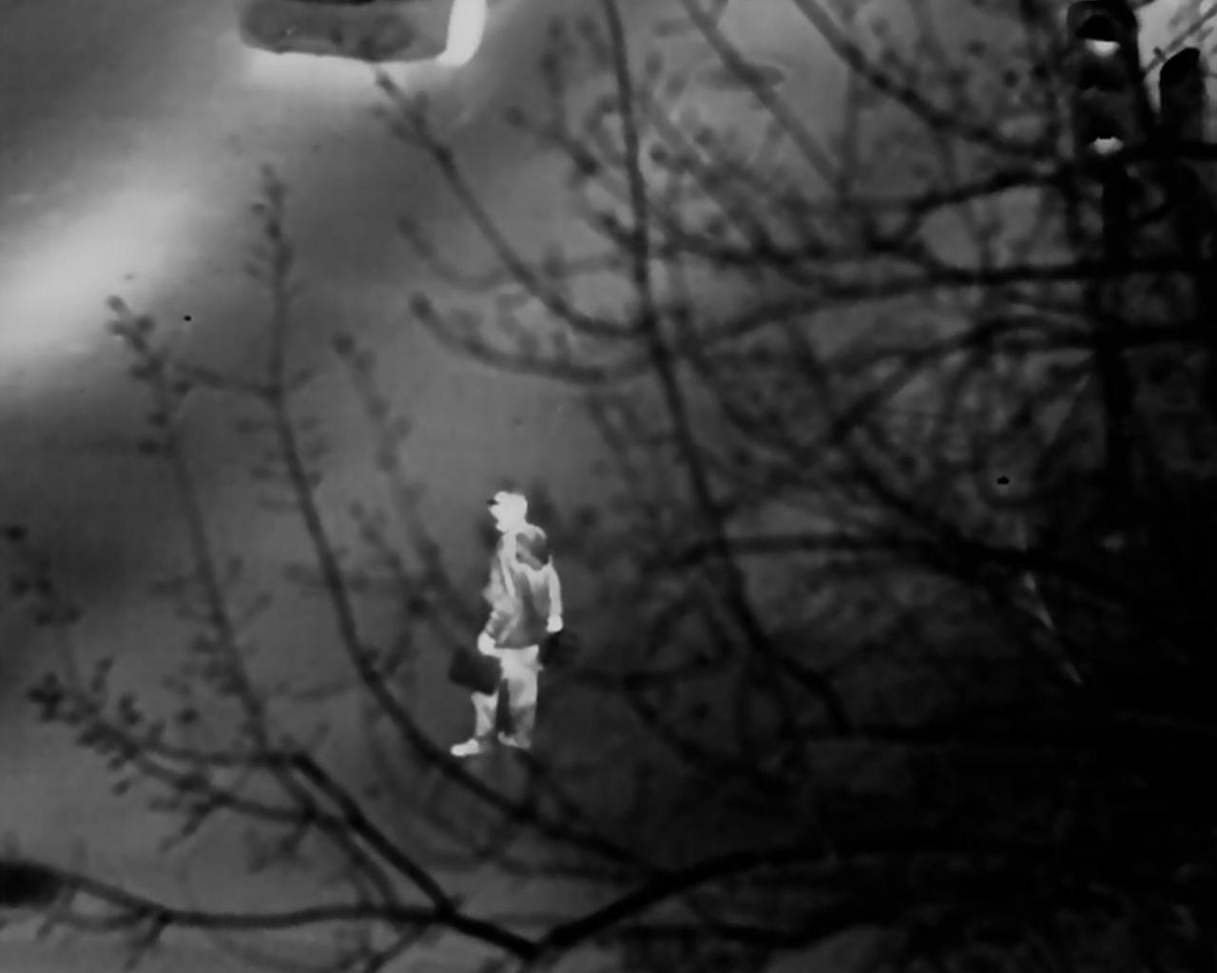person: (451, 486, 562, 750)
